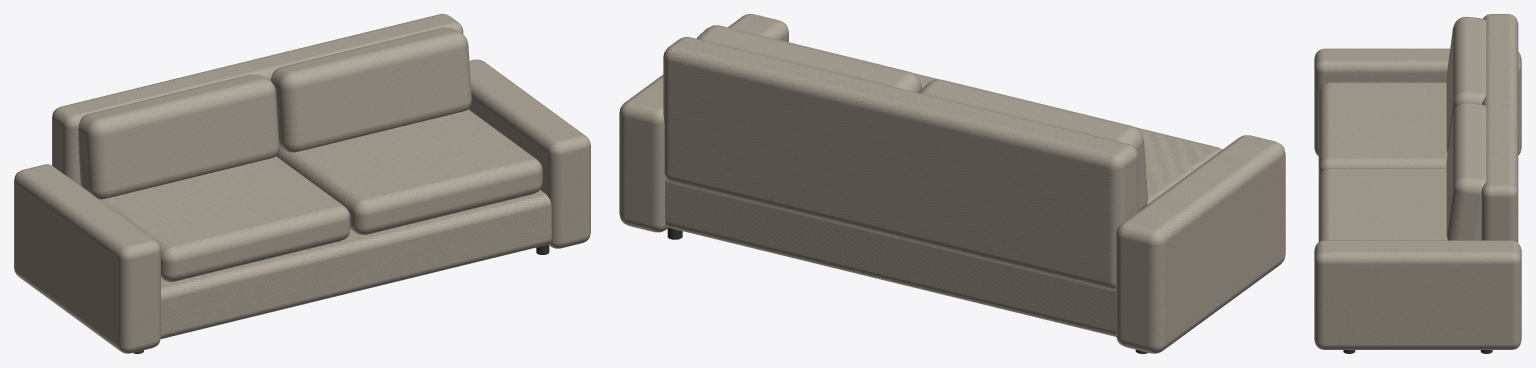
Rendered from kivik-sofa.glb.
The picture shows the model from 3 angles, left to right: view 1: azimuth 30°, elevation 25°; view 2: azimuth 150°, elevation 25°; view 3: azimuth 270°, elevation 25°; orthographic projection. The views are drawn at different scales.
Visible parts, largest first — view 1: KIVIK 3-seat sofa; view 2: KIVIK 3-seat sofa; view 3: KIVIK 3-seat sofa.
Part boxes in pixels (x1,y1,x2,y2): KIVIK 3-seat sofa: [14, 14, 590, 353]; KIVIK 3-seat sofa: [619, 14, 1285, 353]; KIVIK 3-seat sofa: [1314, 14, 1521, 353].
Bounding box in the file's own units: 2.28 × 0.83 × 0.95.
2 materials, 2 textured.
